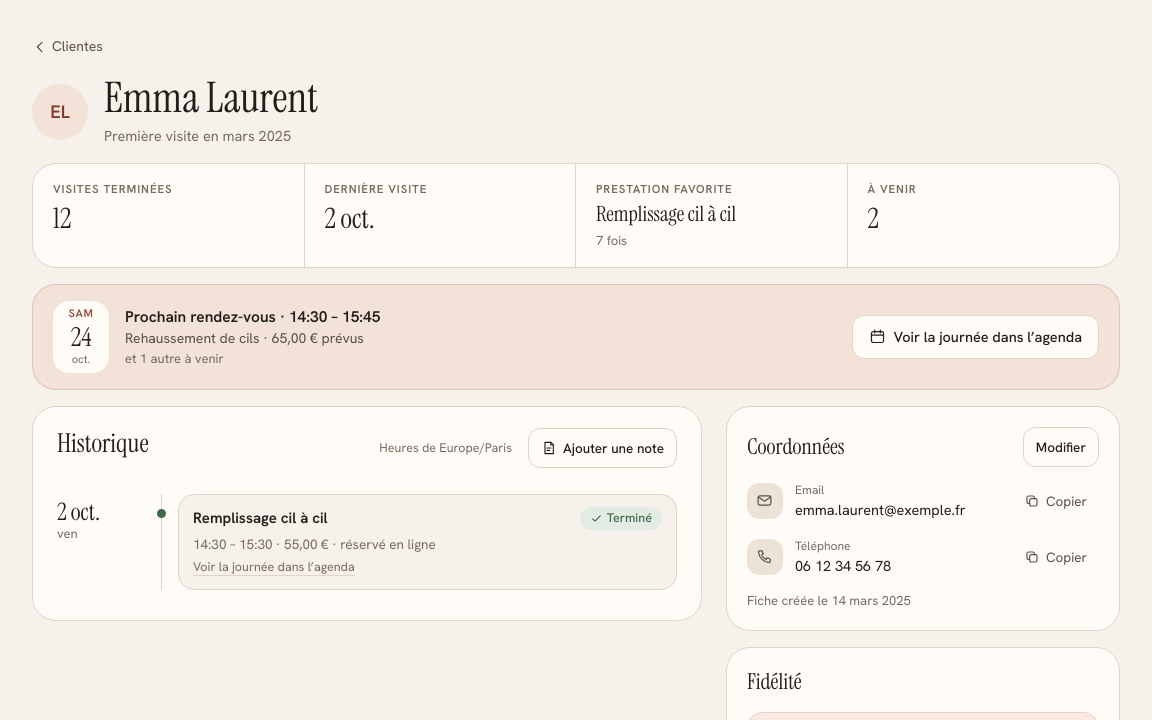
Test: adding a note › a replay whose note was deleted since: never reported as a new note, never re-sent on its own
This screenshot has width=1152, height=720.
Step 1. Click the button "Ajouter une note" → (602,448), box x1=528 y1=428 x2=677 y2=468
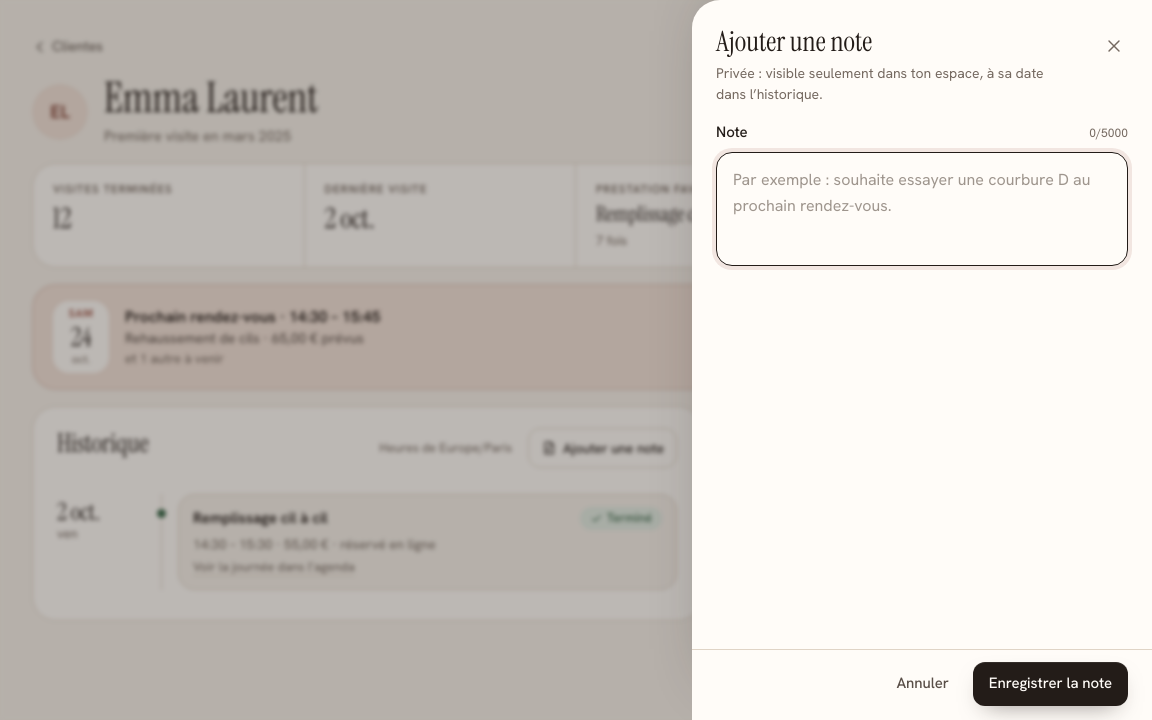
expect the dialog "Ajouter une note" is shown: met, box x1=692 y1=0 x2=1151 y2=719
Step 2. Replace the text in the text box labelled "Note" with "Allergie latex." → (922,208), box x1=717 y1=152 x2=1127 y2=264
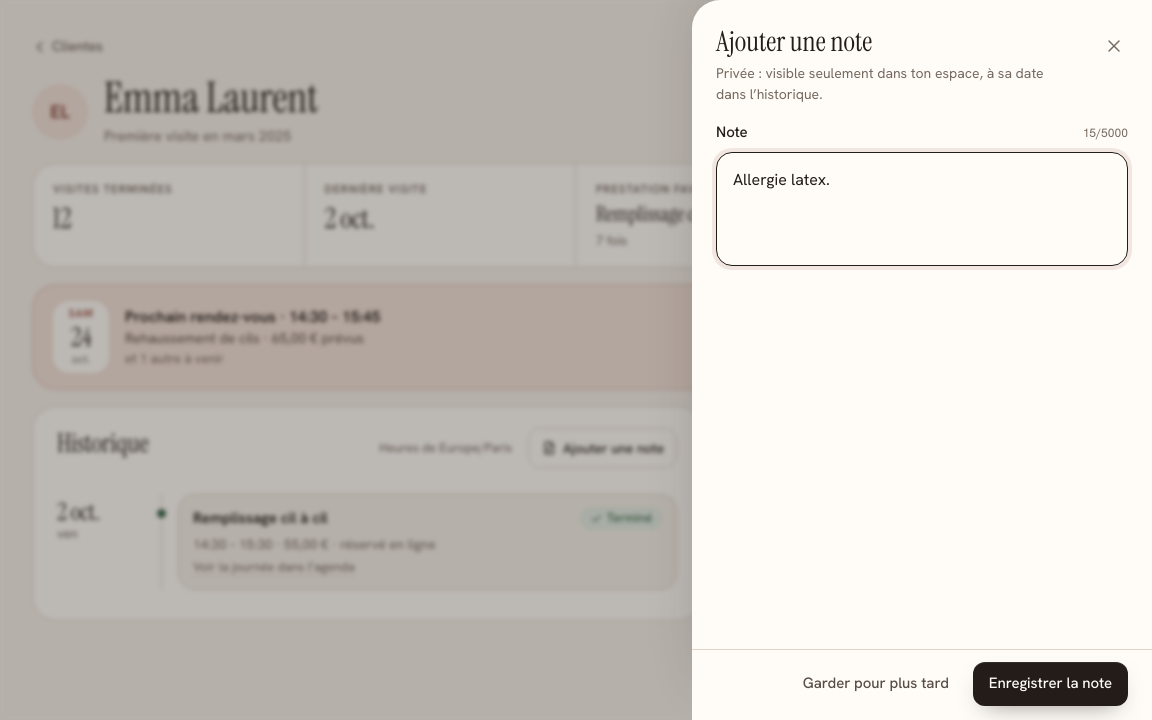
Step 3. Click the button "Enregistrer la note" → (1050,684), box x1=973 y1=662 x2=1128 y2=706
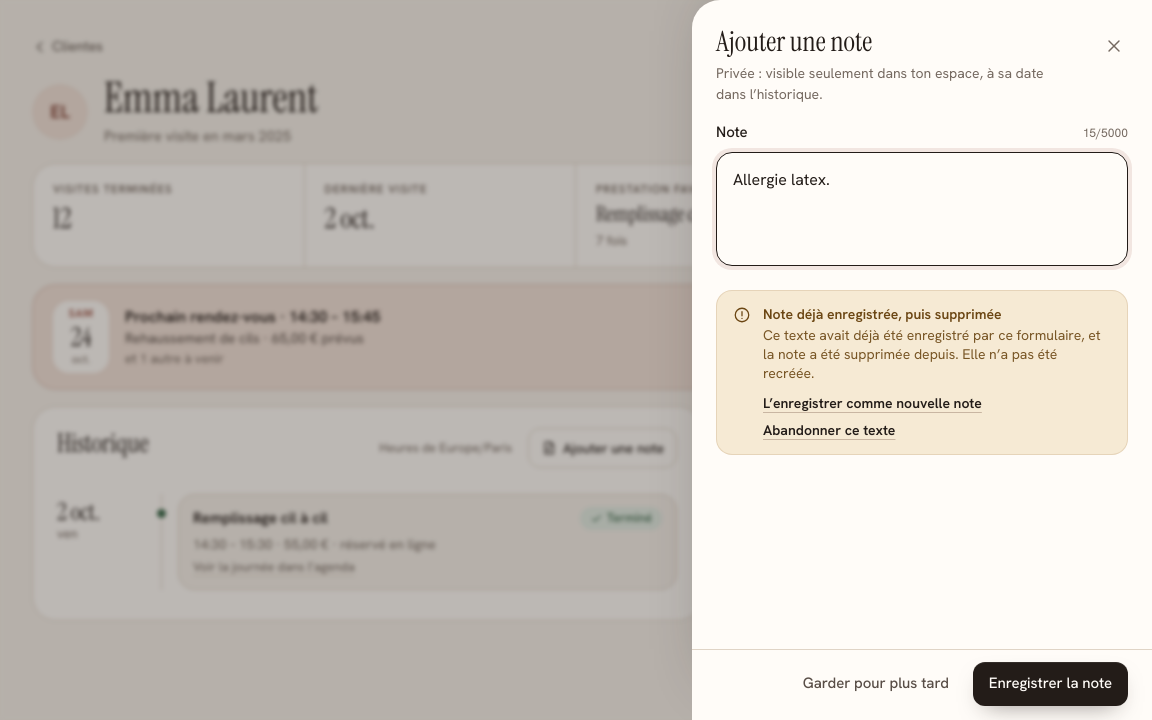
expect the text "Note ajoutée à l’historique." is not shown: met
expect the text "Note déjà enregistrée, puis supprimée" is shown: met, box x1=763 y1=304 x2=1002 y2=322
Step 4. Click the button "L’enregistrer comme nouvelle note" → (872,403), box x1=763 y1=394 x2=982 y2=413
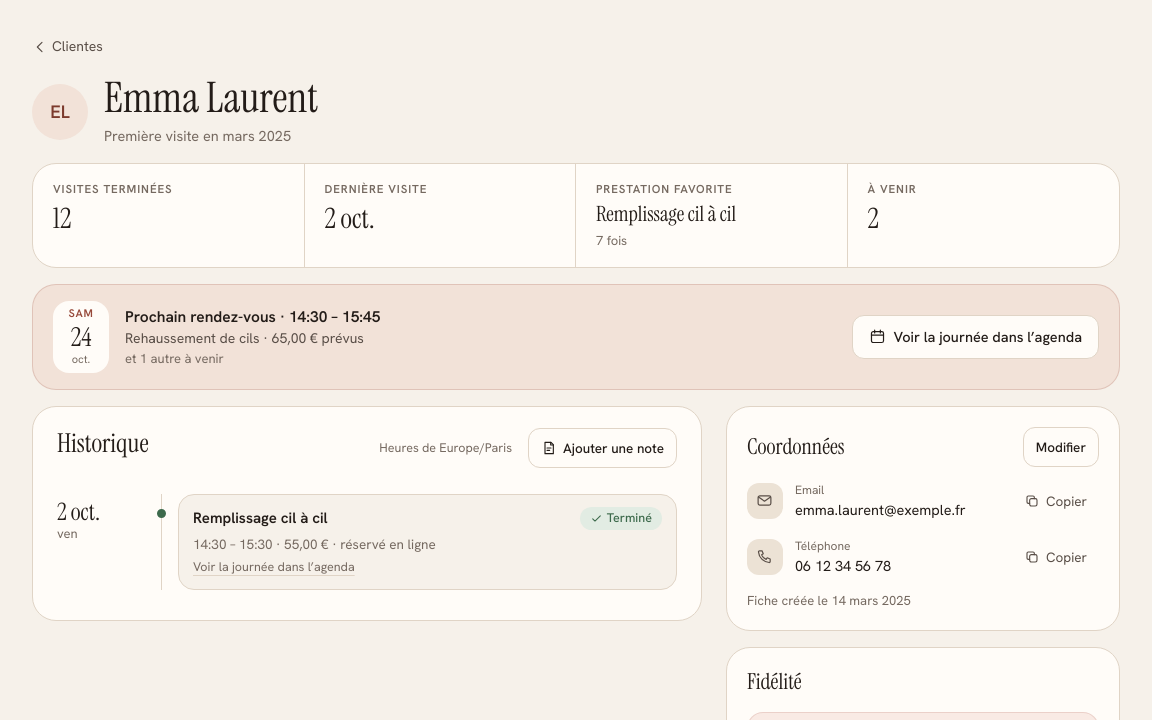
expect the dialog is gone: met
